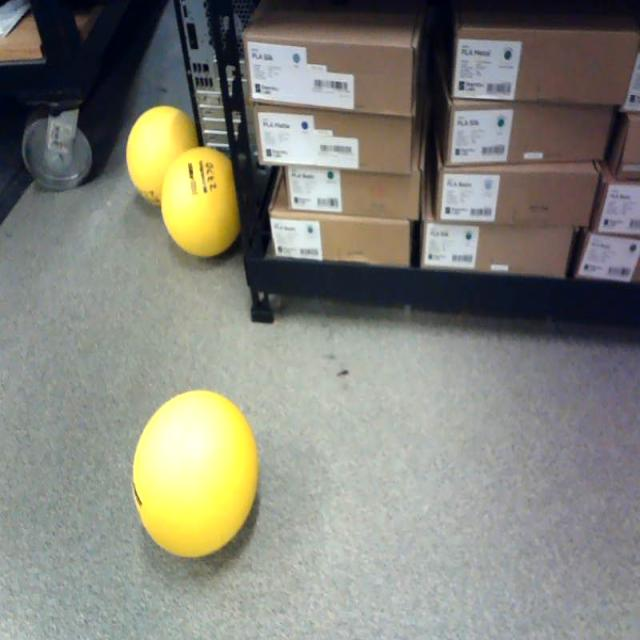Fuel: (132, 389, 258, 559), (162, 146, 244, 258), (126, 105, 198, 208)
